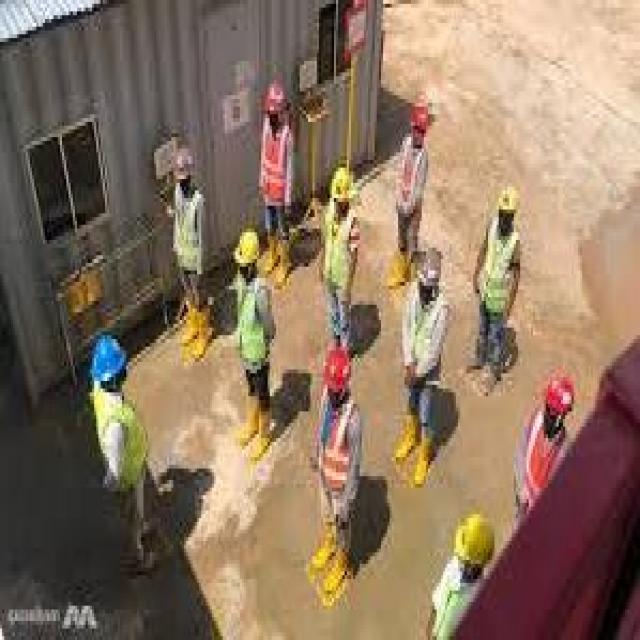Reflective-Jacket: (84, 385, 154, 503), (314, 396, 362, 499), (478, 221, 522, 324), (169, 190, 208, 282)
Safety-Helmet: (84, 328, 132, 396), (537, 366, 578, 423), (321, 343, 353, 400), (494, 179, 524, 221), (233, 225, 261, 270), (415, 252, 443, 294), (328, 164, 356, 206), (169, 141, 197, 183), (265, 76, 289, 118)
